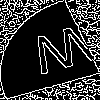W: (25, 24, 100, 84)
